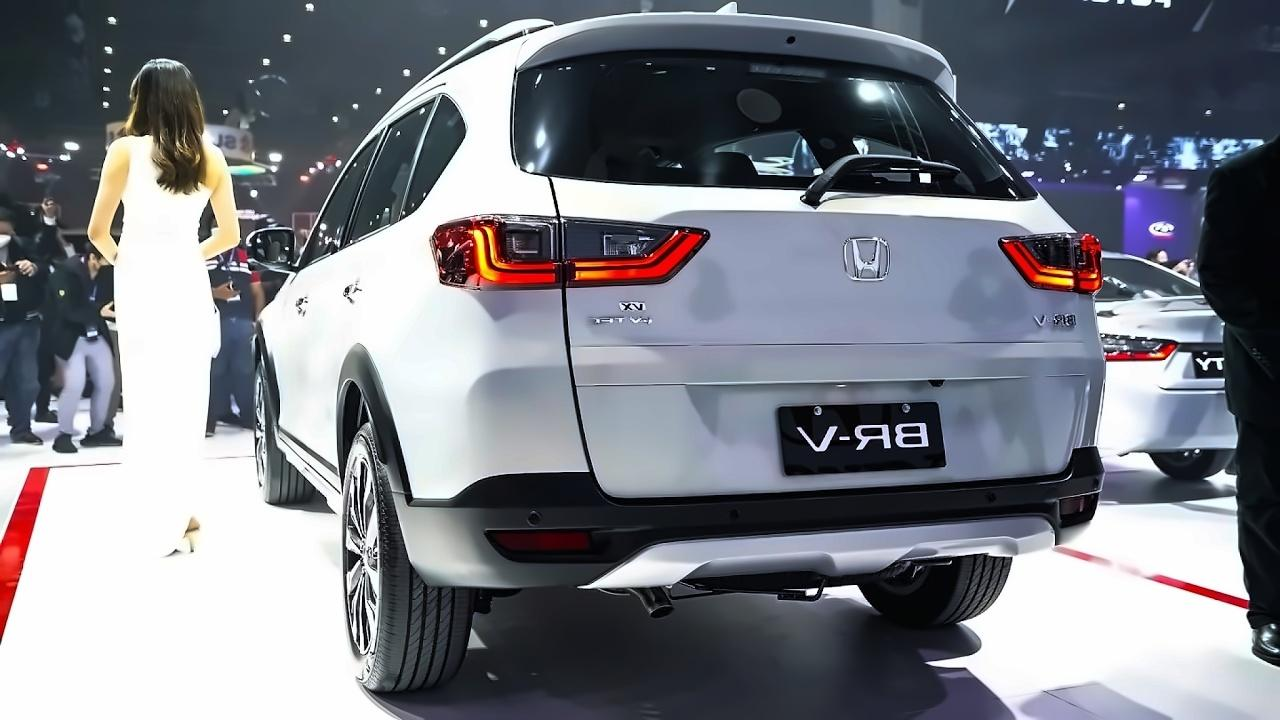Car boot: (506, 22, 1097, 500)
Fender - -R-L-: (389, 202, 512, 420)
Passenger-s door - -F-L-: (276, 86, 379, 448)
Passenger-s door - -R-L-: (325, 66, 439, 469)
Rear bumper: (392, 344, 1121, 597)
Rear light - -L-: (426, 204, 721, 306)
Rear light - -R-: (994, 222, 1114, 302)
Side bumper - -L-: (266, 416, 361, 528)
Side mirror - -L-: (236, 216, 314, 290)
